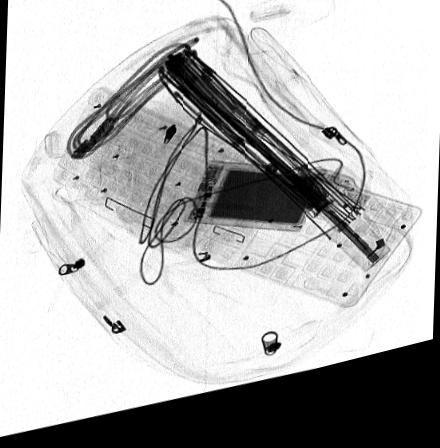Powerbank: (181, 170, 326, 248)
